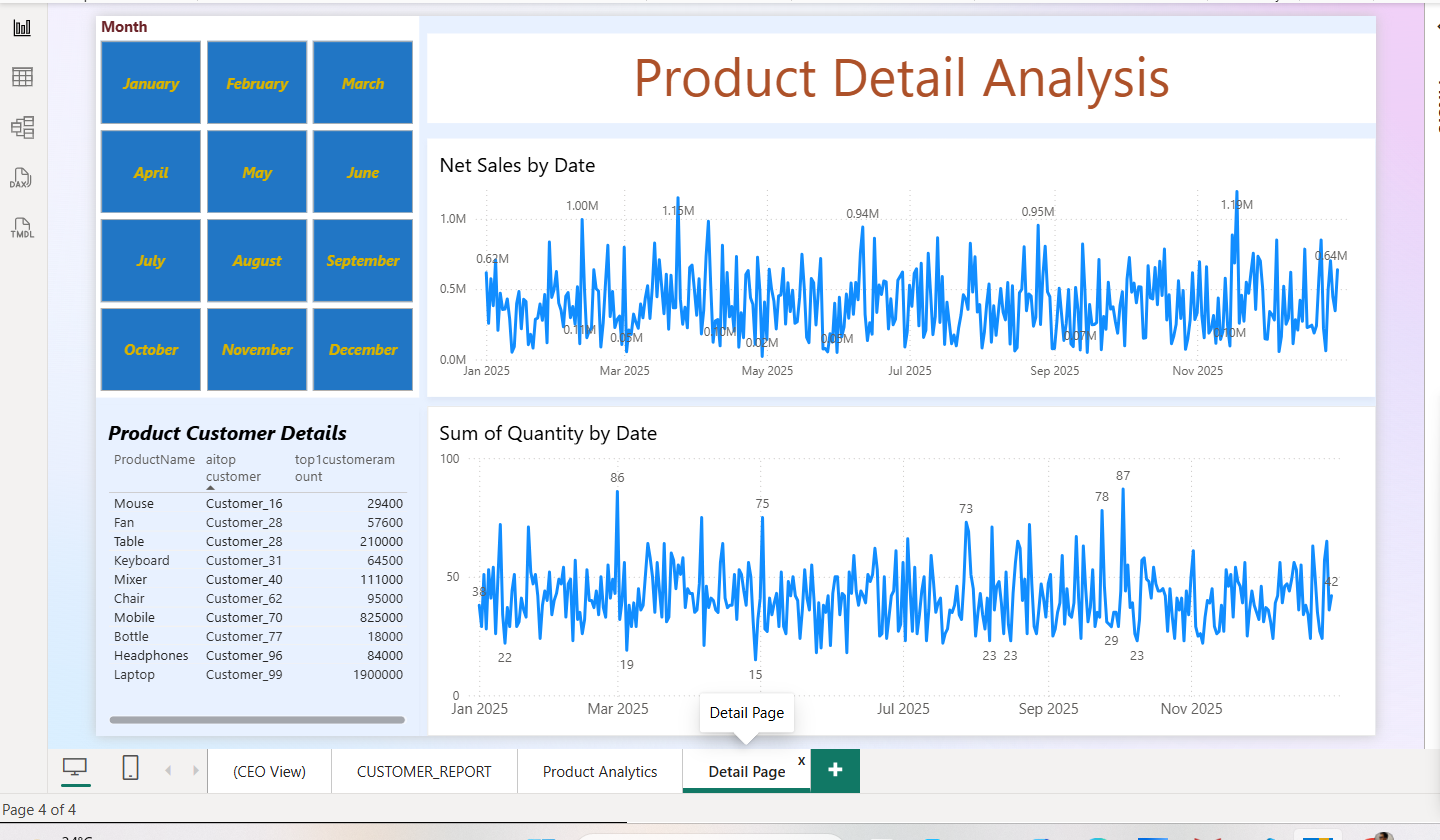

The page's visual inventory and layout, read from the dashboard file:
{"tool":"powerbi","page":{"name":"Detail Page","canvas":[1280,720],"ordinal":3},"visuals":[{"type":"advancedSlicerVisual","fields":{"Values":["Dim Calender.Month"]},"box":[0,0,323.3,381.2],"z":0},{"type":"lineChart","fields":{"Y":["Fact Order Table.Net Sales"],"Category":["Dim Calender.Date"]},"box":[331.8,123.1,948.3,258.2],"z":1000},{"type":"lineChart","fields":{"Y":["Sum(Fact Order Table.Quantity)"],"Category":["Dim Calender.Date"]},"box":[331.8,389.7,948.3,330.6],"z":2000},{"type":"tableEx","title":"Product Customer Details","fields":{"Values":["Dim Product Table.ProductName","Dim Customer Table.aitop customer","Dim Customer Table.top1customeramount"]},"box":[0,389.7,323.3,330.6],"z":3000},{"type":"textbox","box":[331.4,17.1,948.9,89.3],"z":4000}]}

Visuals, with their boxes on the page's 1280x720 design canvas (x1, y1, x2, y2). These are canvas units, not pixel positions in the 1440x840 screenshot, which may show the page scaled, cropped or inside an application window:
advancedSlicerVisual - Dim Calender.Month: (0, 0, 323, 381)
lineChart - Fact Order Table.Net Sales x Dim Calender.Date: (332, 123, 1280, 381)
lineChart - Sum(Fact Order Table.Quantity) x Dim Calender.Date: (332, 390, 1280, 720)
"Product Customer Details" tableEx: (0, 390, 323, 720)
textbox: (331, 17, 1280, 106)
